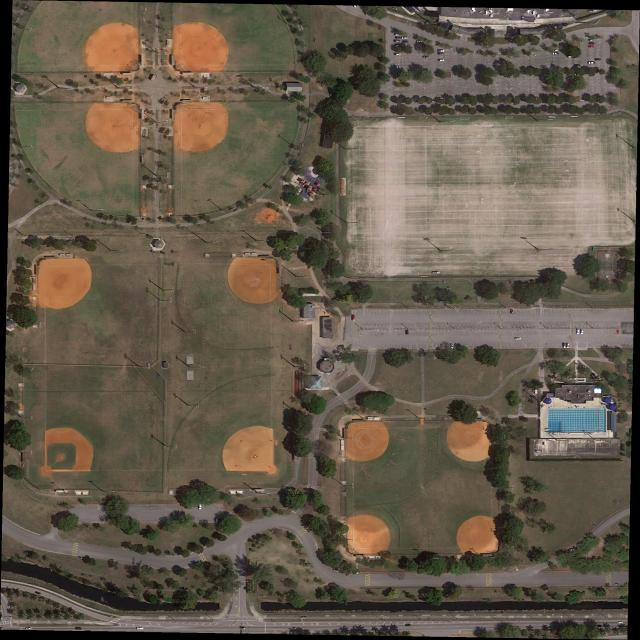small-vehicle: (566, 547, 575, 554), (588, 61, 596, 65), (432, 271, 440, 275), (352, 315, 356, 322), (401, 36, 408, 40), (567, 73, 574, 77), (35, 591, 41, 595), (575, 73, 581, 77), (437, 50, 445, 53), (416, 40, 423, 43), (422, 56, 429, 59), (402, 40, 409, 43), (394, 53, 401, 56), (137, 627, 144, 630), (75, 627, 82, 630), (25, 627, 32, 630), (199, 503, 202, 510), (594, 58, 601, 61), (574, 64, 581, 67), (568, 55, 575, 58), (588, 42, 595, 45), (580, 329, 584, 334), (576, 329, 580, 334), (395, 40, 401, 43), (395, 36, 401, 39), (395, 33, 401, 36), (215, 517, 218, 523), (439, 59, 445, 62), (568, 76, 574, 79), (553, 52, 559, 55), (588, 45, 594, 48), (588, 39, 594, 42), (515, 337, 521, 340), (405, 624, 411, 627), (451, 343, 454, 349), (510, 309, 513, 314), (567, 343, 570, 348), (563, 343, 566, 348), (406, 330, 409, 335), (239, 627, 246, 629), (394, 66, 400, 68), (553, 49, 559, 51), (617, 330, 620, 334)
